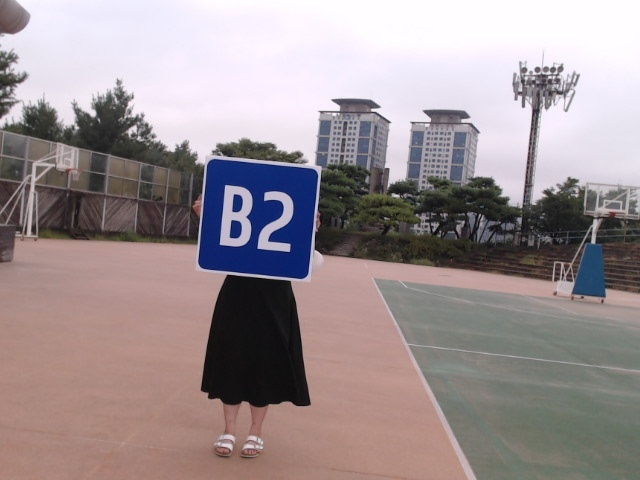delivery_b2: (195, 158, 320, 281)
